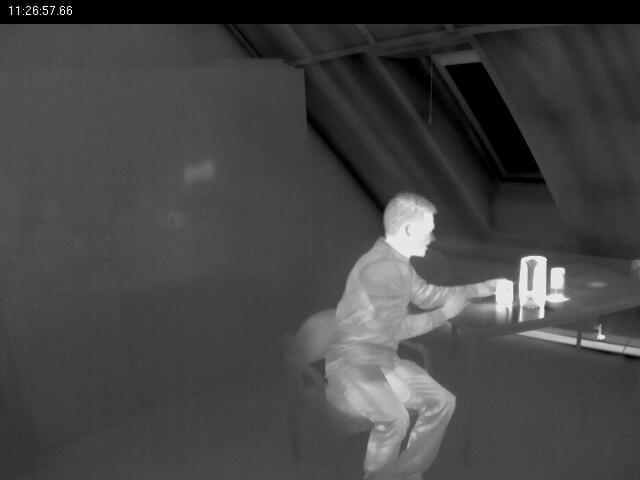person: (314, 192, 482, 480)
